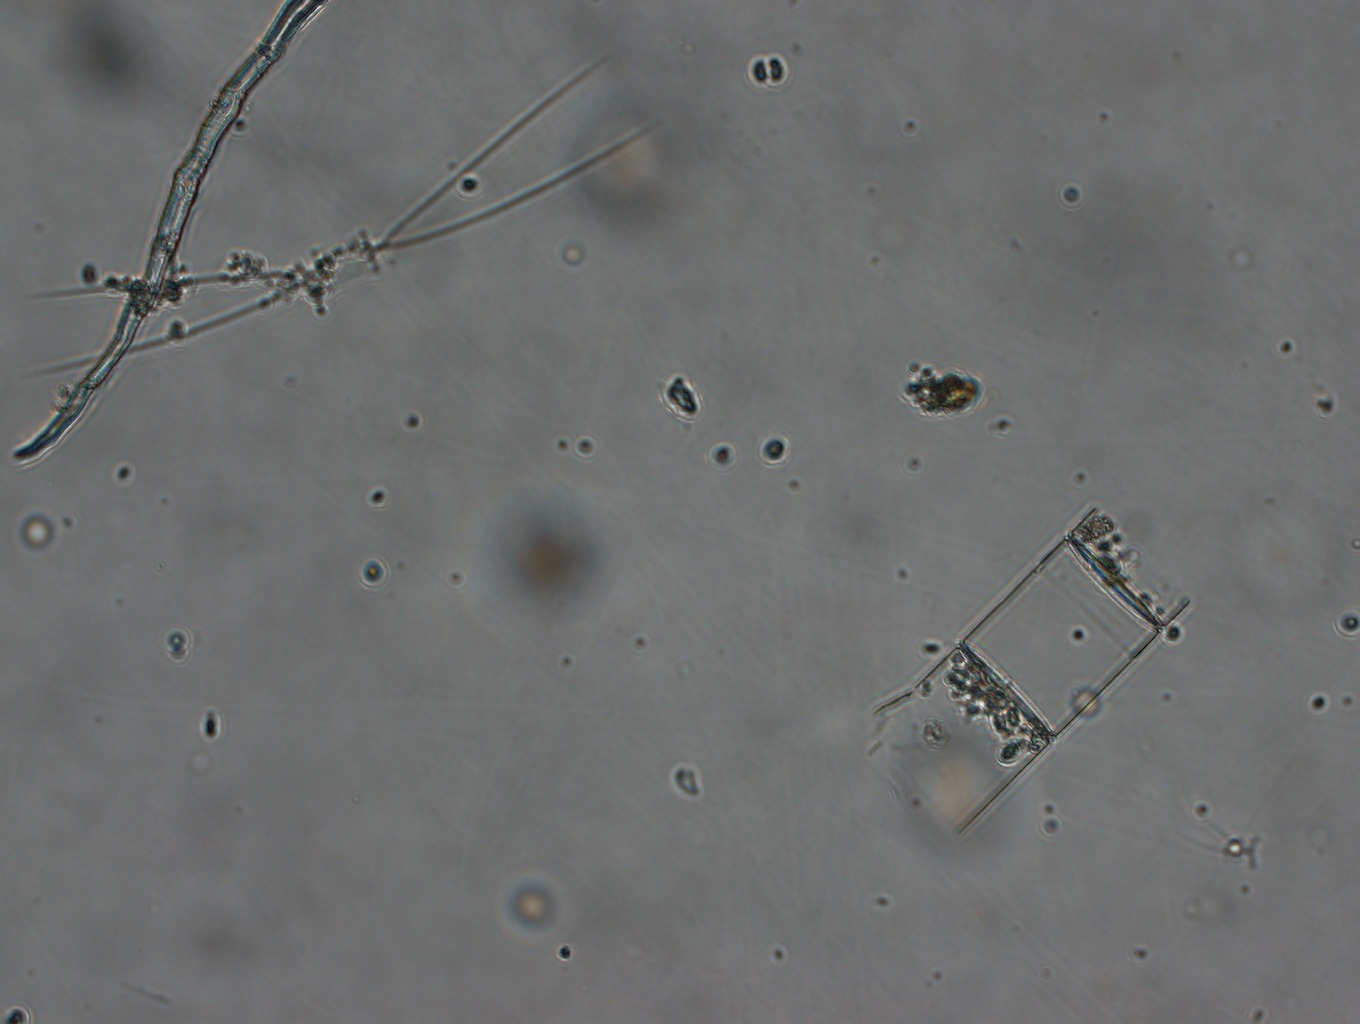chaetoceros: (29, 65, 648, 373)
guinardia flaccida: (855, 503, 1186, 834)
